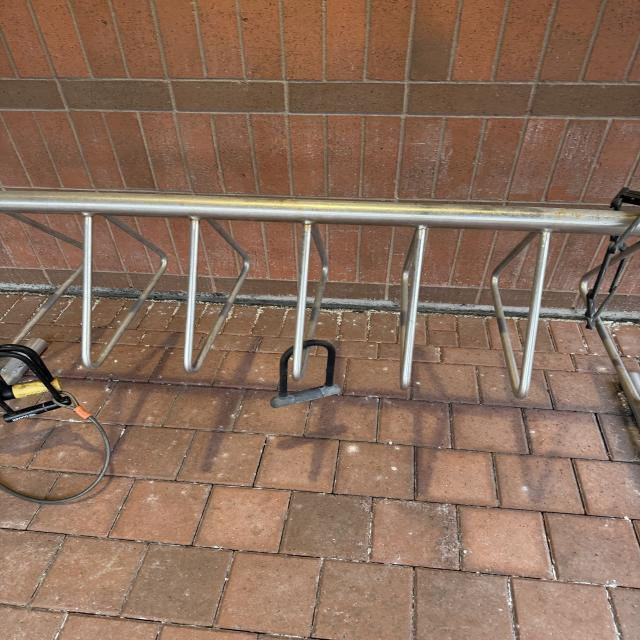Bicycle Rack: (0, 184, 640, 436)
